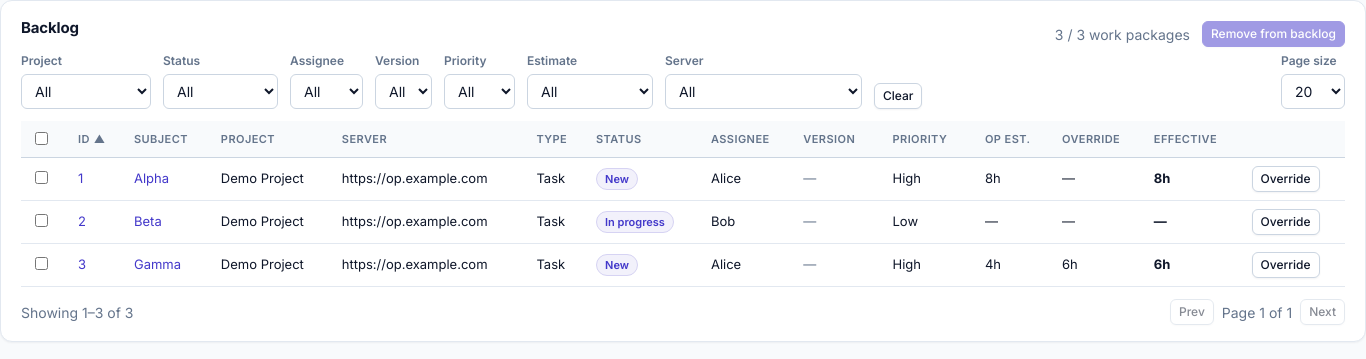
Scenario: BacklogScreen › renders rows with OP estimate and override side by side, and filters
Expected: the link "Alpha" is shown, [134, 170, 169, 186]
Expected: the link "Gamma" is shown, [134, 256, 181, 272]
// Filter to "No estimate" → only Beta remains.
Step 1. Select "No estimate" in the dropdown labelled "Estimate" → point(590, 91), box [527, 74, 653, 108]
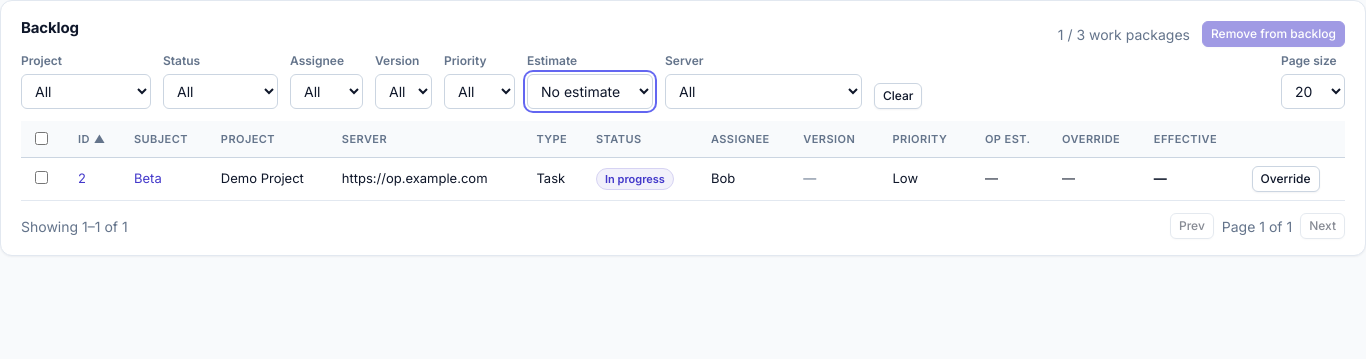
Expected: the link "Beta" is shown, [134, 170, 162, 186]
Result: the link "Alpha" is gone
// Filter by status New (clear estimate filter first).
Step 2. Select "All" in the dropdown labelled "Estimate" → point(590, 91), box [527, 74, 653, 108]
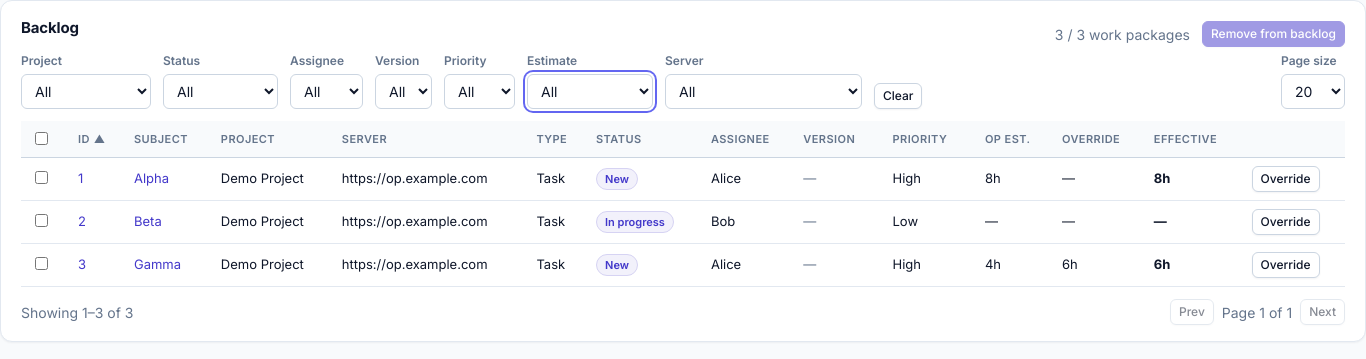
Step 3. Select "In progress" in the dropdown labelled "Status" → point(220, 91), box [163, 74, 278, 108]
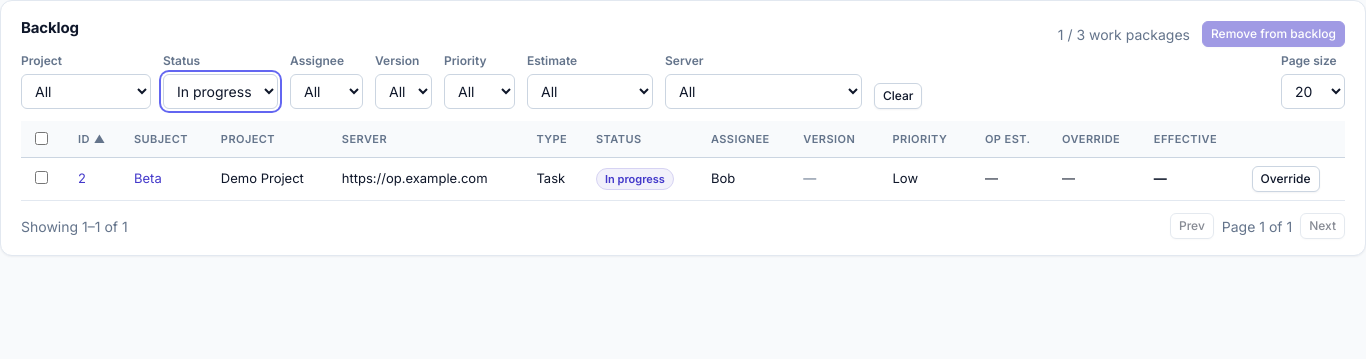
Expected: the link "Beta" is shown, [134, 170, 162, 186]
Result: the link "Alpha" is gone
